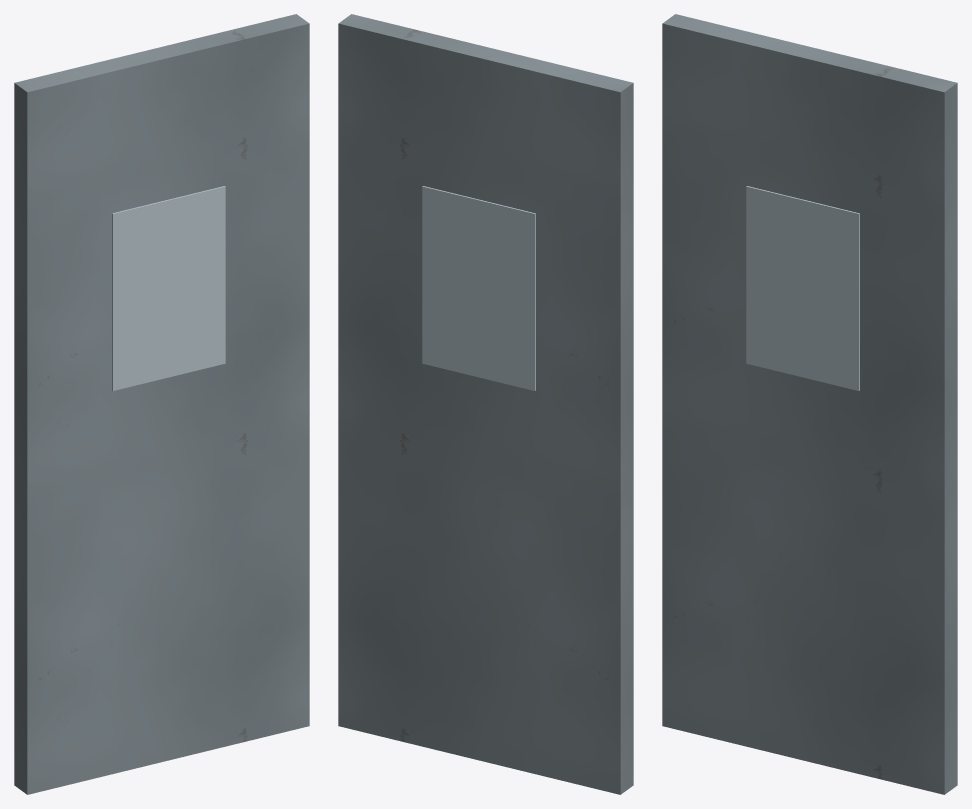
File: door_leaf.glb
The picture shows the model from 3 angles, left to right: view 1: azimuth 30°, elevation 25°; view 2: azimuth 150°, elevation 25°; view 3: azimuth 330°, elevation 25°; orthographic projection.
Visible parts, largest first — view 1: door_leaf; view 2: door_leaf; view 3: door_leaf.
Part boxes in pixels (x1,y1,x2,y2): door_leaf: (14,14,309,794); door_leaf: (338,14,633,794); door_leaf: (662,14,957,794).
Size of the model in its own units: 1 by 2.38 by 0.09.
2 materials, 1 textured.
